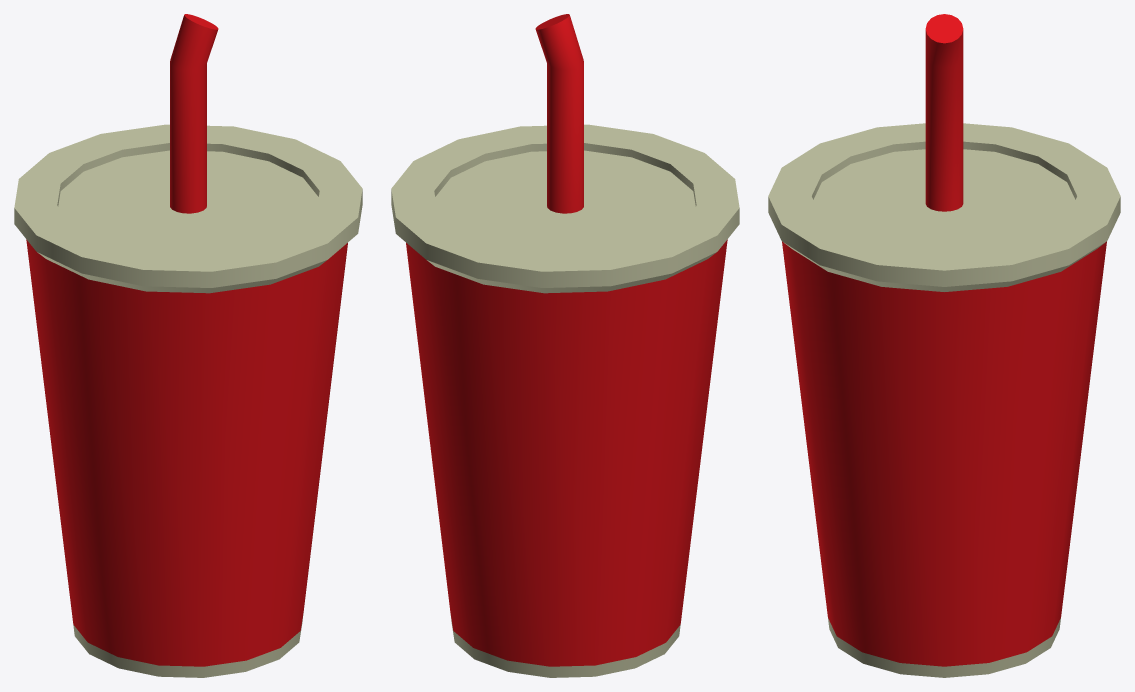
The model's file is drink.fbx.
The picture shows the model from 3 angles, left to right: view 1: azimuth 30°, elevation 25°; view 2: azimuth 150°, elevation 25°; view 3: azimuth 270°, elevation 25°; orthographic projection.
Parts seen in each view (by area): view 1: Drink; view 2: Drink; view 3: Drink.
Part boxes in pixels (x1,y1,x2,y2): Drink: (14,14,362,677); Drink: (391,14,739,677); Drink: (768,14,1120,677).
Size of the model in its own units: 12.78 by 12.78 by 24.59.
